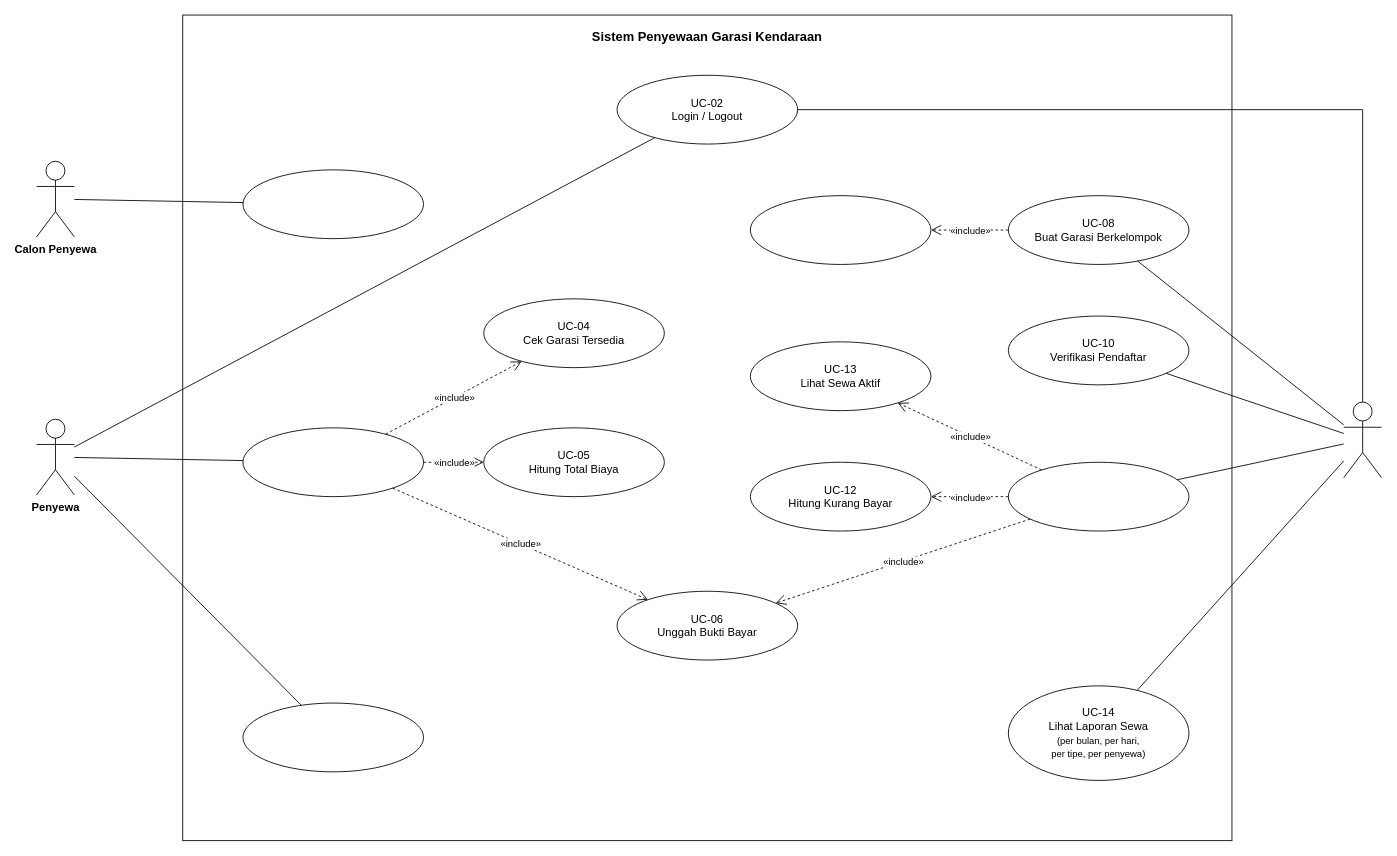
This 1397x856 diagram has some shape labels left out. The shapes that lost their labels are listed below. From the top down, each one's box as (x1, y1, x2, y2) in pixels, then its label:
(242, 169, 424, 239): UC-01 Registrasi Penyewa
(749, 195, 931, 264): UC-09 Buat Kode Garasi Otomatis
(1343, 401, 1382, 478): Admin
(242, 427, 424, 497): UC-03 Sewa Baru Garasi
(1007, 461, 1189, 531): UC-11 Perpanjang Sewa Garasi
(242, 702, 424, 772): UC-07 Lihat Riwayat Sewa
